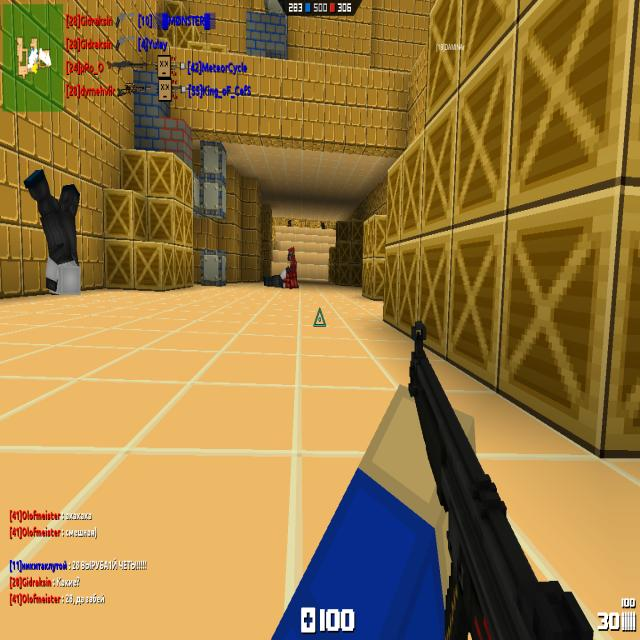enemy: (288, 247, 297, 270), (320, 222, 326, 229), (288, 219, 292, 227)
